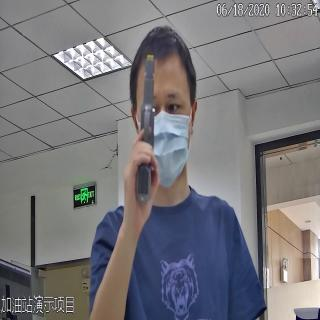gun: (132, 52, 158, 214)
